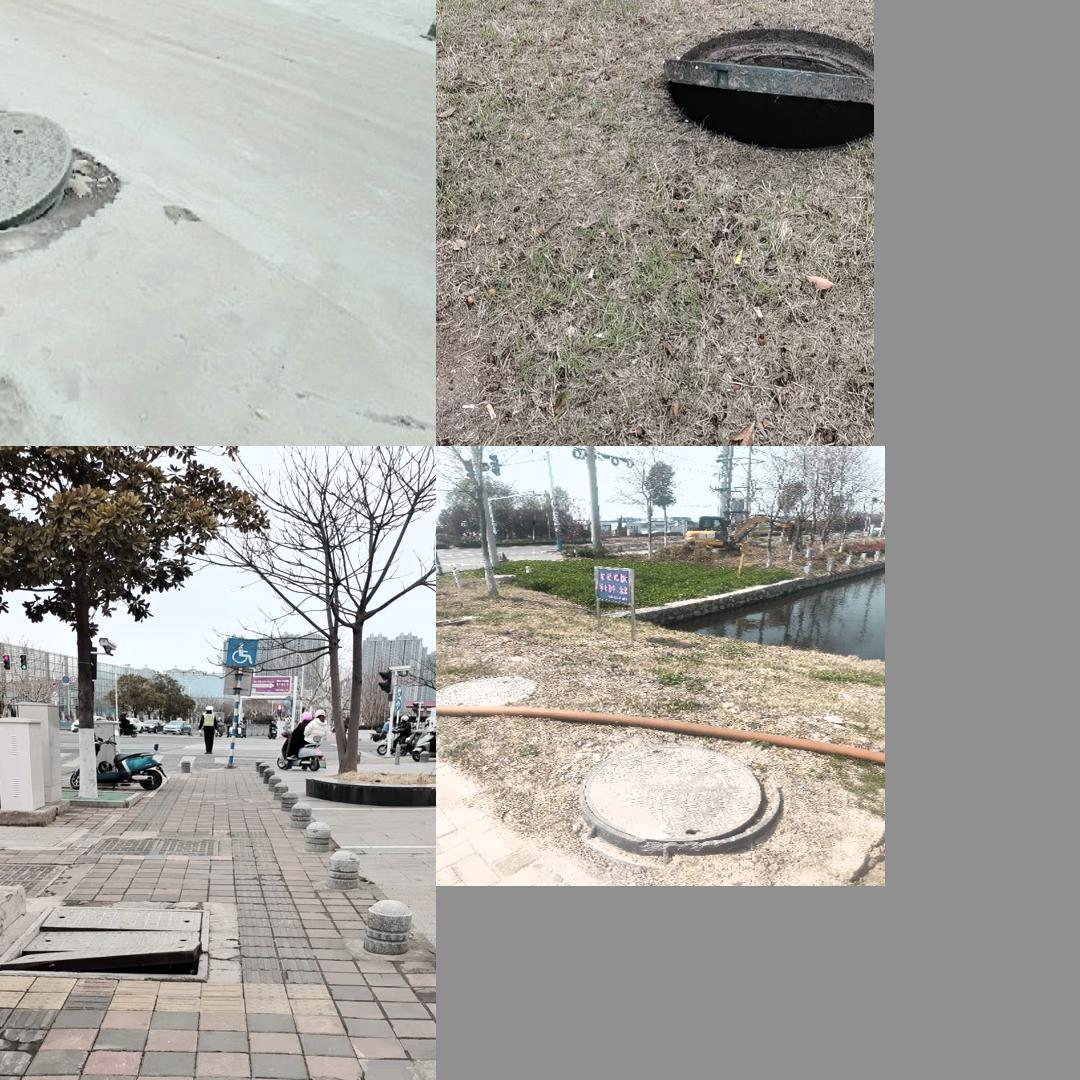good: (79, 833, 225, 861), (437, 676, 540, 707)
uncovered: (668, 27, 874, 151), (576, 742, 784, 856), (0, 900, 211, 980), (0, 111, 74, 228)
